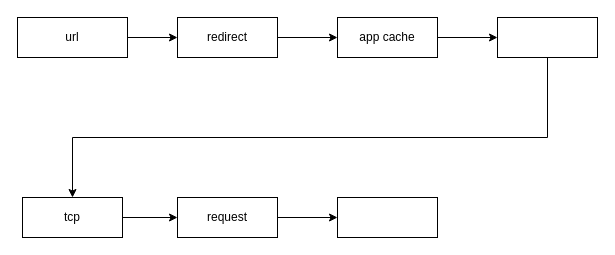
The diagram is 615 pixels wide and 255 high, and some of its shapes have lost their labels. The centre of each missing label's shape, as x and y in pixels:
"dns" goes at (547,37).
"response" goes at (387,217).
